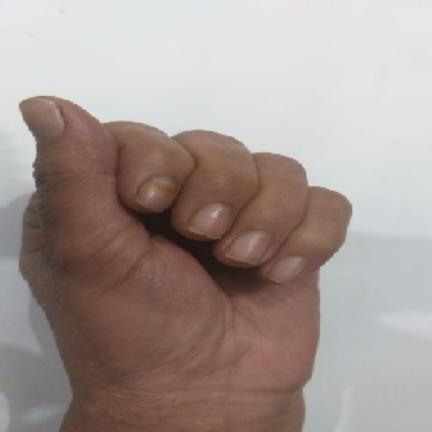Nail: (19, 97, 65, 140), (184, 203, 232, 240), (224, 230, 271, 266), (135, 176, 177, 212), (267, 256, 307, 284)
